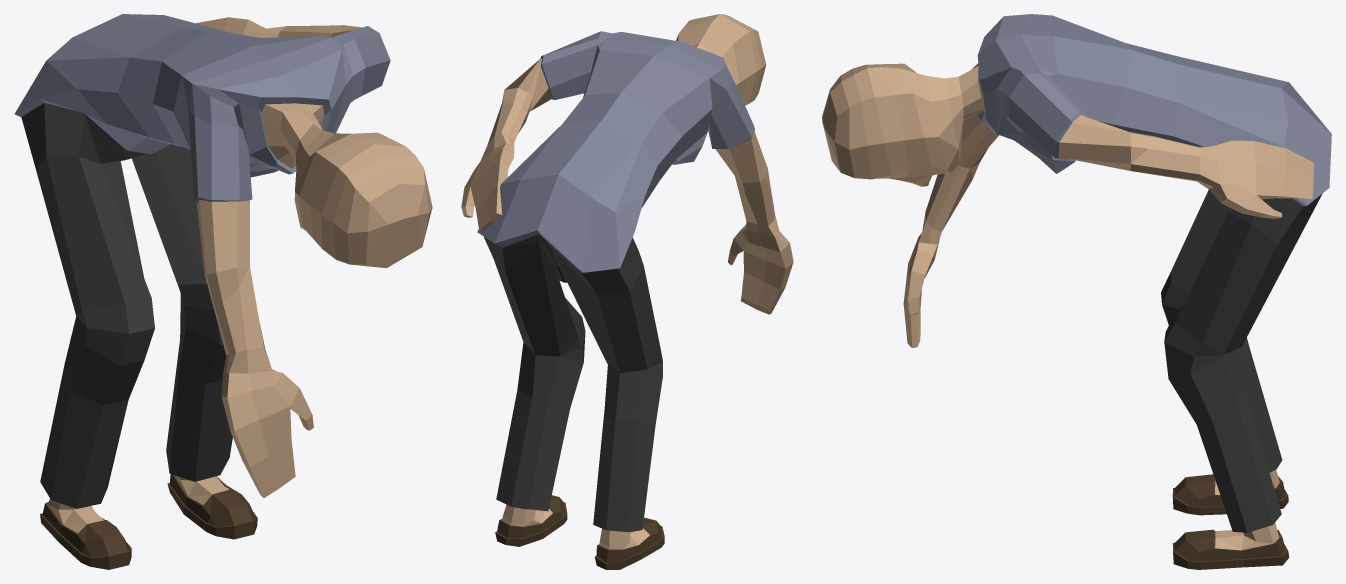
Rendered from Female_PickingUp.glb.
3 renders of one model, left to right at view 1: azimuth 30°, elevation 25°; view 2: azimuth 150°, elevation 25°; view 3: azimuth 270°, elevation 25°, orthographic. The views are drawn at different scales.
Visible parts, largest first — view 1: Female_PickingUp; view 2: Female_PickingUp; view 3: Female_PickingUp.
Boxes of the visible parts, x1,y1,x2,y2 form: Female_PickingUp: (14, 14, 432, 569); Female_PickingUp: (461, 14, 793, 569); Female_PickingUp: (822, 14, 1331, 569).
Size of the model in its own units: 1.08 by 2.26 by 2.09.
